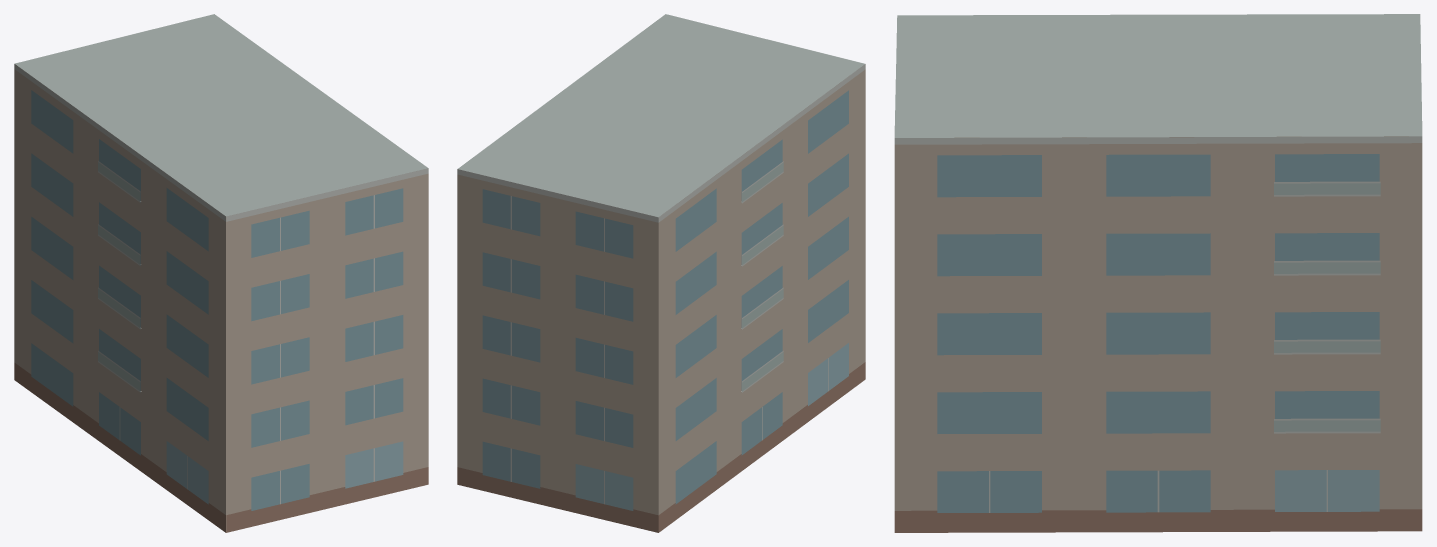
Rendered from survey-upis-32927573.glb.
3 renders of one model, left to right at view 1: azimuth 30°, elevation 25°; view 2: azimuth 150°, elevation 25°; view 3: azimuth 270°, elevation 25°, orthographic. The views are drawn at different scales.
Visible parts, largest first — view 1: survey-upis-32927573.tmp; view 2: survey-upis-32927573.tmp; view 3: survey-upis-32927573.tmp.
Part boxes in pixels (x1,y1,x2,y2): survey-upis-32927573.tmp: (14, 14, 428, 532); survey-upis-32927573.tmp: (457, 14, 865, 532); survey-upis-32927573.tmp: (894, 14, 1422, 532).
Bounding box in the file's own units: 9.57 × 14.2 × 17.21.
